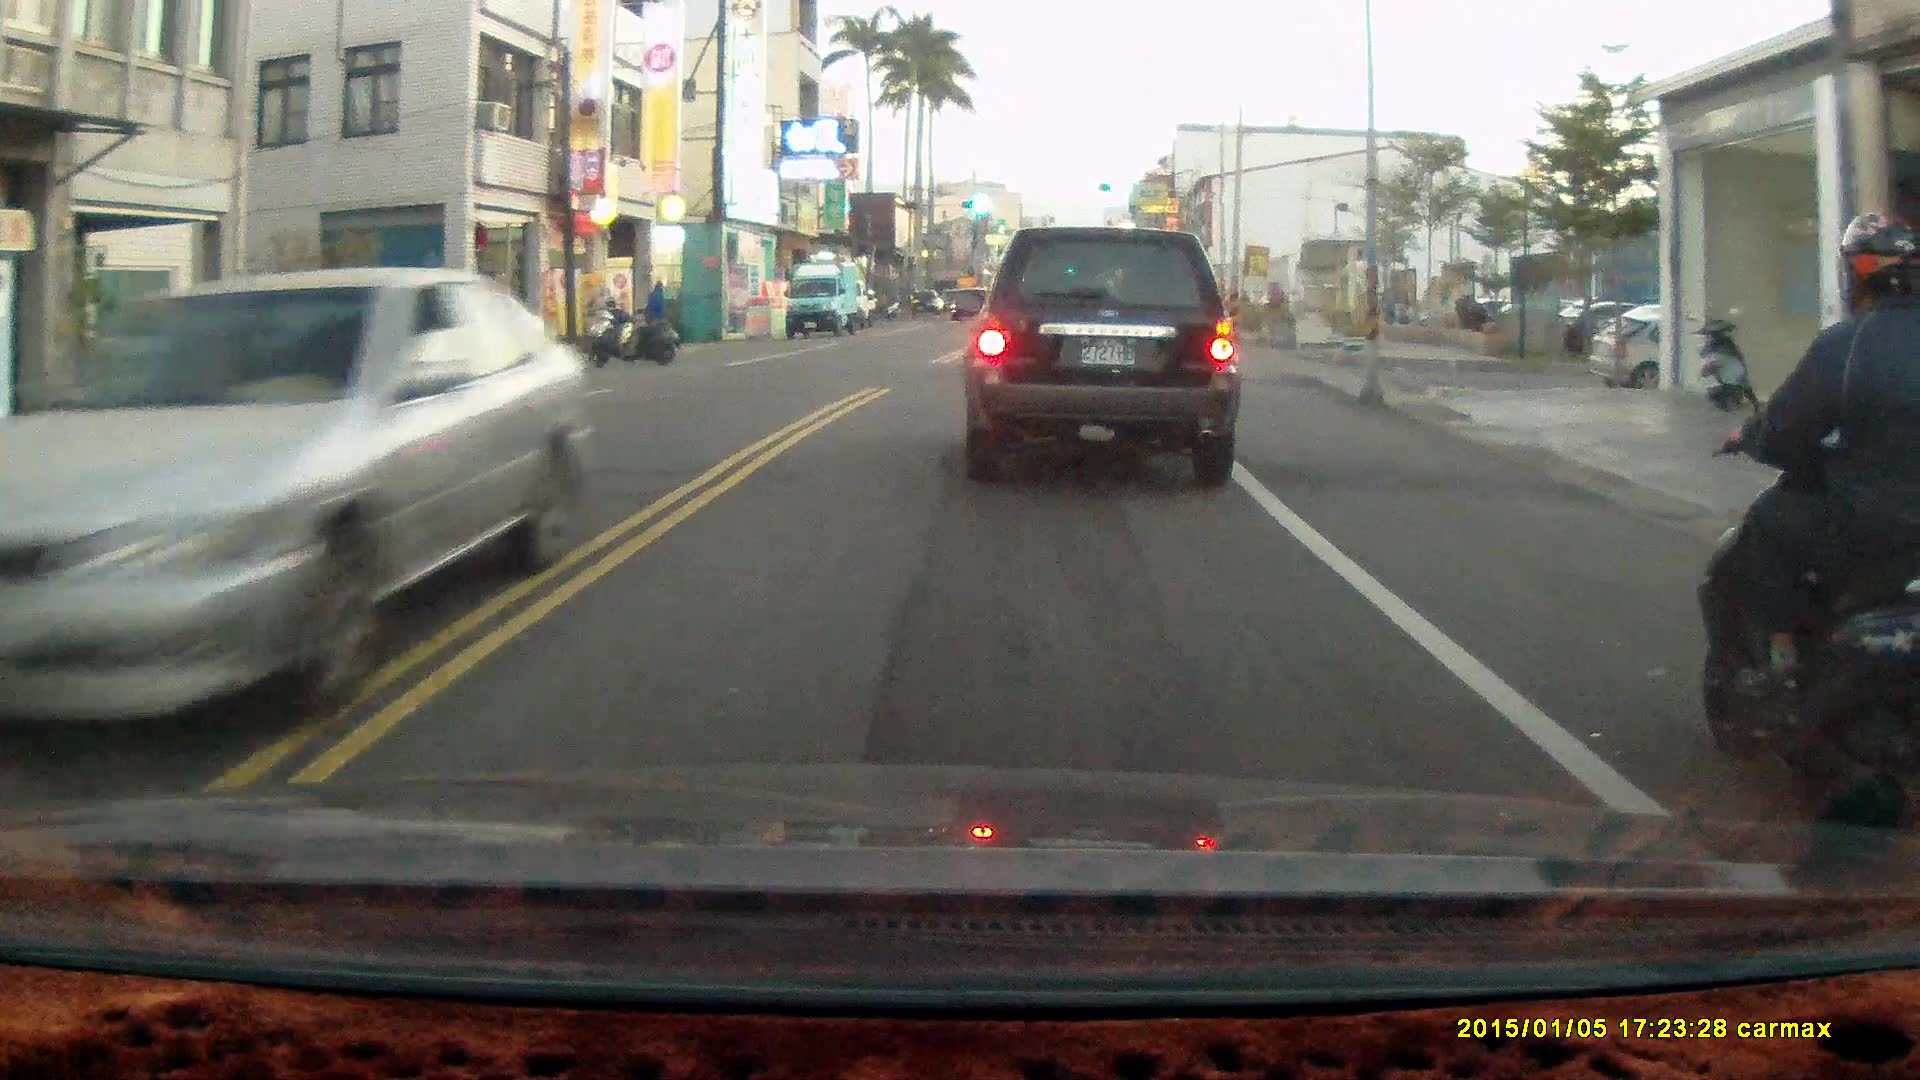pedestrian: (639, 274, 669, 348)
rider: (1692, 211, 1920, 843)
vehicle: (13, 266, 588, 776), (971, 224, 1247, 492), (1587, 317, 1803, 403), (784, 265, 869, 344)
